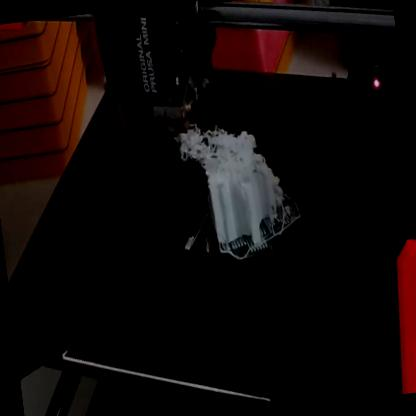fail: (181, 122, 224, 186)
